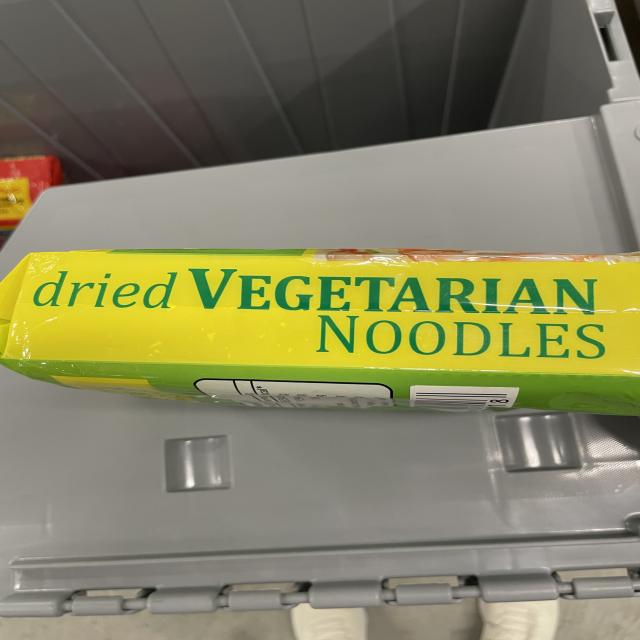object_name: (6, 253, 631, 404)
